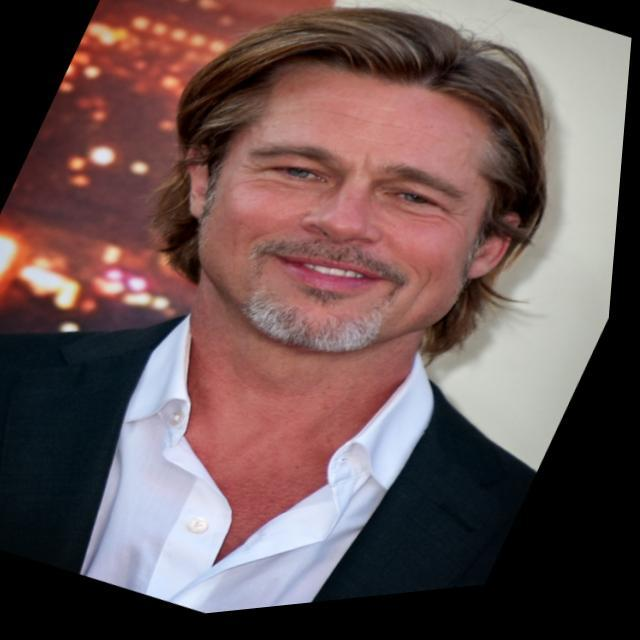Nonhelmet: (148, 5, 551, 361)
